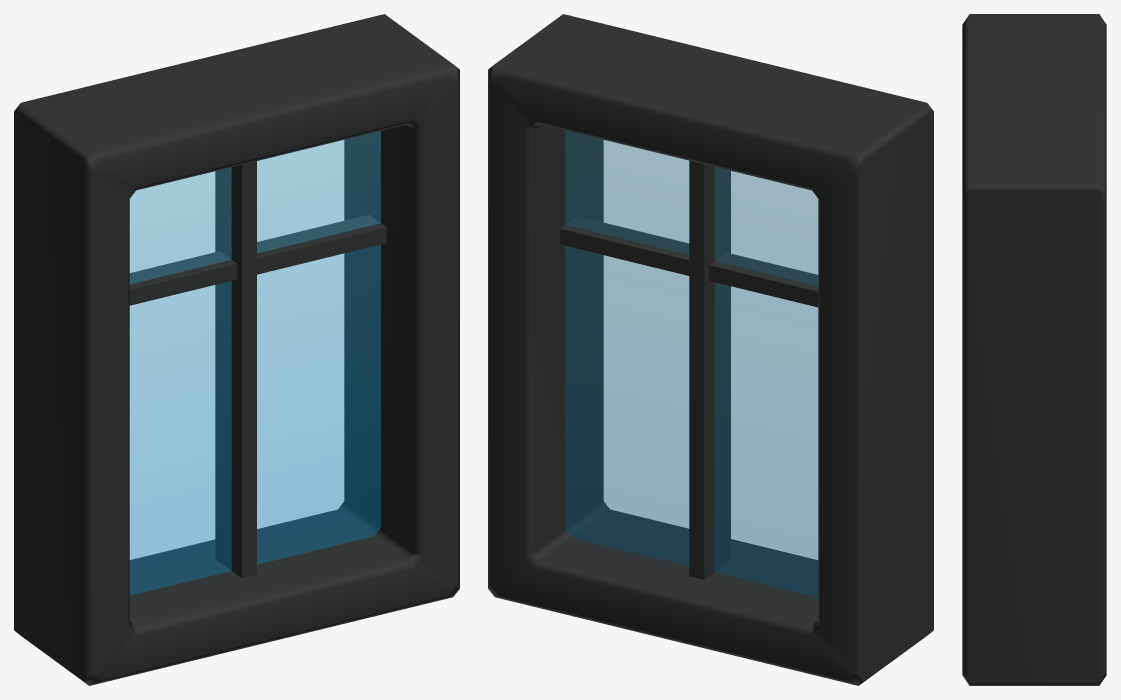
Rendered from Window_Black_12.glb.
3 renders of one model, left to right at view 1: azimuth 30°, elevation 25°; view 2: azimuth 150°, elevation 25°; view 3: azimuth 270°, elevation 25°, orthographic. The views are drawn at different scales.
Visible parts, largest first — view 1: Window_Black_12; view 2: Window_Black_12; view 3: Window_Black_12.
Boxes of the visible parts, x1,y1,x2,y2 form: Window_Black_12: [14, 14, 459, 685]; Window_Black_12: [488, 14, 933, 685]; Window_Black_12: [962, 14, 1106, 685].
Size of the model in its own units: 1.14 by 1.54 by 0.4.
Materials: 2 (2 with a texture image).
